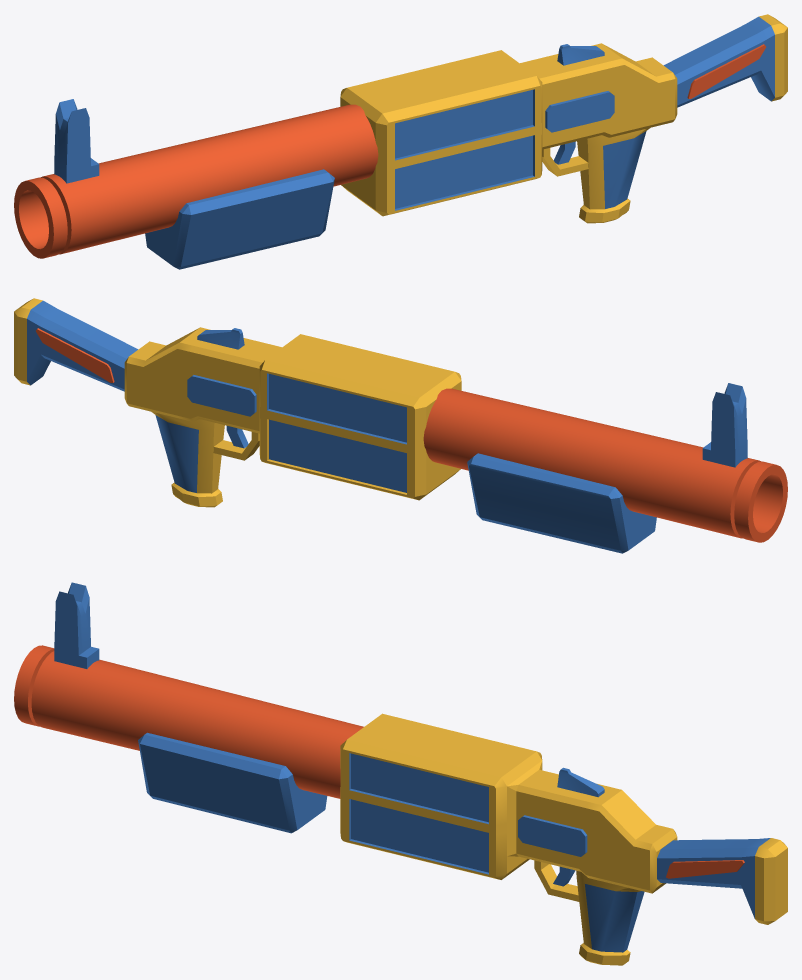
The model's file is GranadelauncherToy.fbx.
The picture shows the model from 3 angles, top to bottom: view 1: azimuth 30°, elevation 25°; view 2: azimuth 150°, elevation 25°; view 3: azimuth 330°, elevation 25°; orthographic projection.
Visible parts, largest first — view 1: Granadelauncher; view 2: Granadelauncher; view 3: Granadelauncher.
Boxes of the visible parts, left/top/right/bottom form: Granadelauncher: left=14, top=14, right=787, bottom=269; Granadelauncher: left=14, top=298, right=787, bottom=553; Granadelauncher: left=14, top=582, right=787, bottom=965.
Size of the model in its own units: 72.13 by 22.21 by 9.09.
